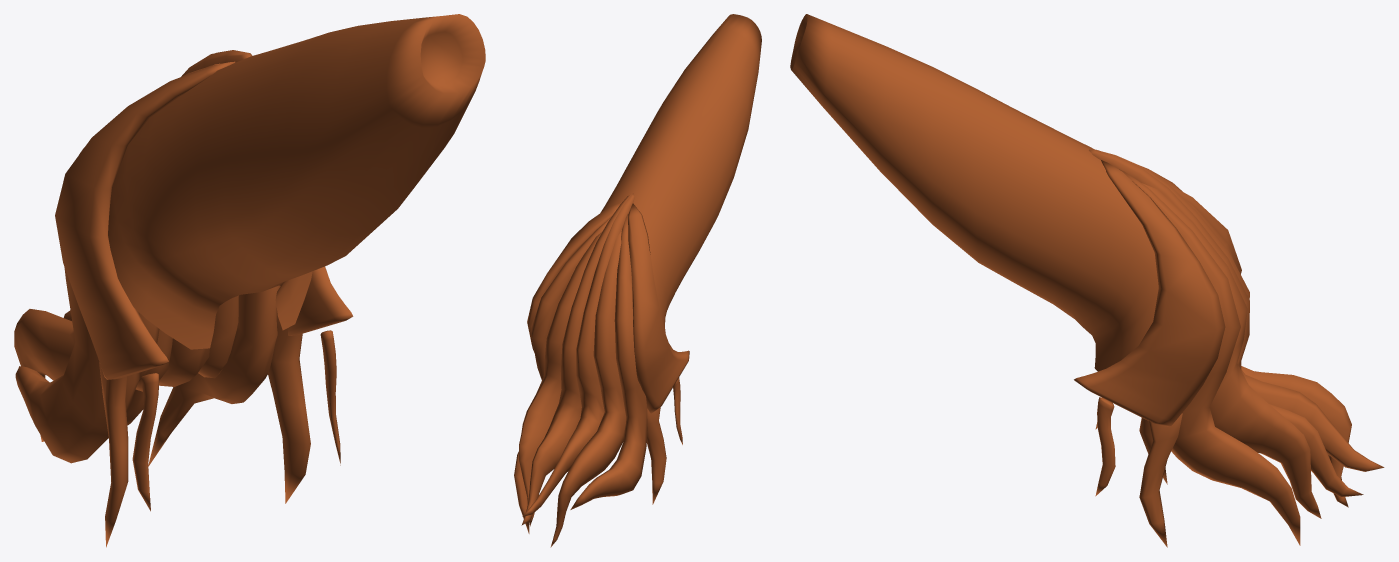
3 renders of one model, left to right at view 1: azimuth 30°, elevation 25°; view 2: azimuth 150°, elevation 25°; view 3: azimuth 270°, elevation 25°, orthographic. The views are drawn at different scales.
Parts seen in each view (by area): view 1: Wolf3D_Hair.057; view 2: Wolf3D_Hair.057; view 3: Wolf3D_Hair.057.
Boxes of the visible parts, <box> form: Wolf3D_Hair.057: <box>14,14,485,547</box>; Wolf3D_Hair.057: <box>514,14,761,547</box>; Wolf3D_Hair.057: <box>790,14,1384,547</box>.
Bounding box in the file's own units: 0.1784 × 0.5562 × 0.5837.
1 material, 1 textured.
